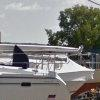Boat: (2, 37, 99, 95)
